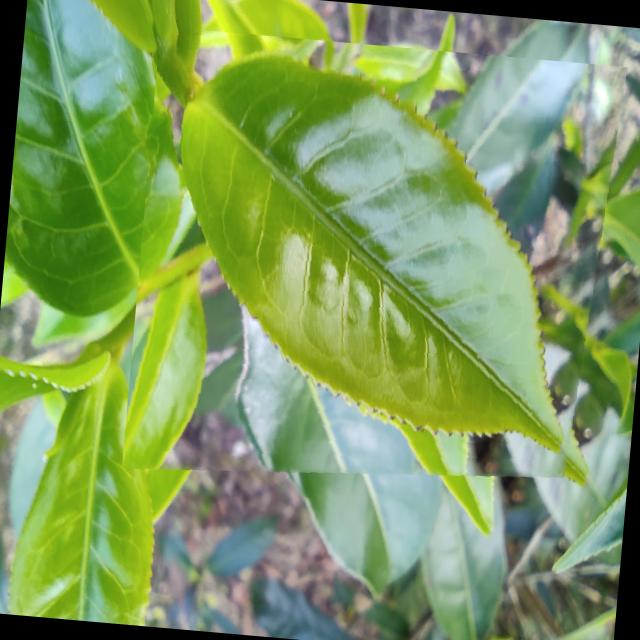Category B(2-4 days): (121, 25, 630, 510)
